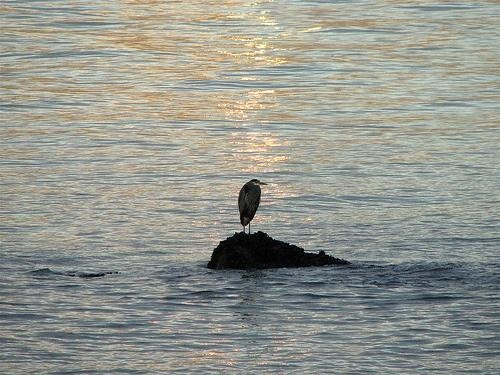bird: (238, 180, 269, 235)
